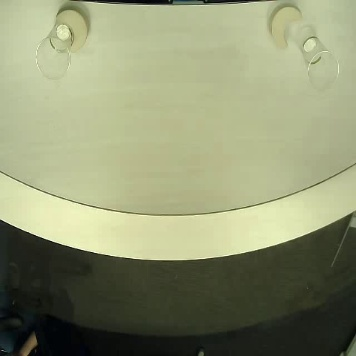empty_cup: (296, 30, 339, 91), (36, 23, 73, 81)
puck: (56, 9, 88, 53), (269, 5, 301, 49)
